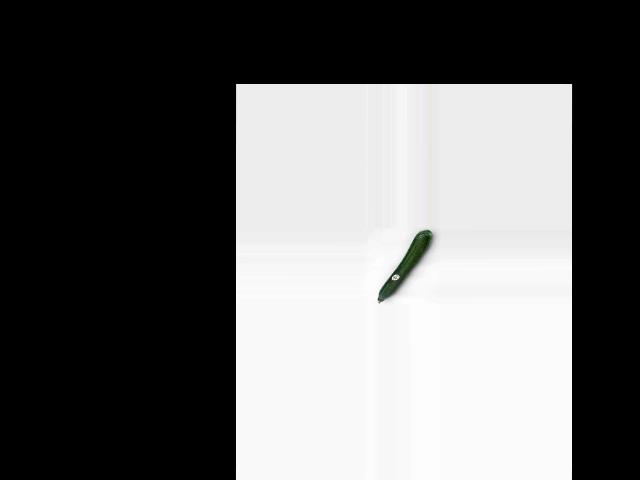cucumber: (377, 230, 431, 303)
